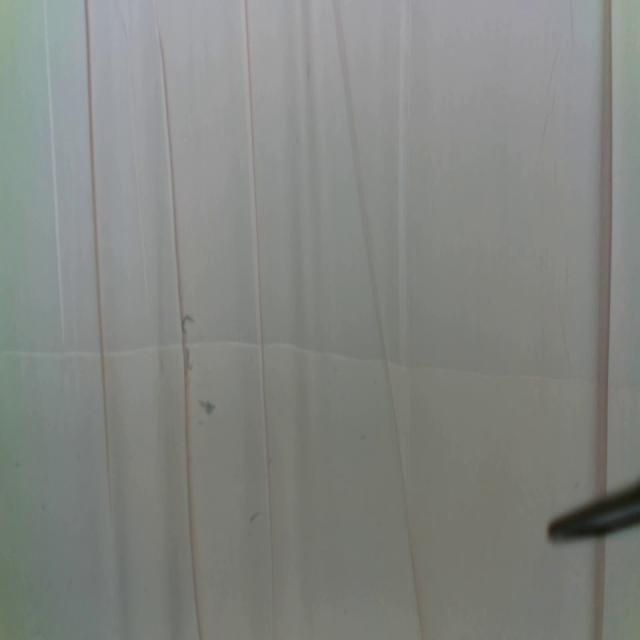crease: (330, 0, 424, 638), (155, 22, 204, 640), (244, 1, 278, 626), (85, 0, 114, 510), (592, 0, 614, 494), (42, 0, 66, 348), (129, 79, 150, 299)
